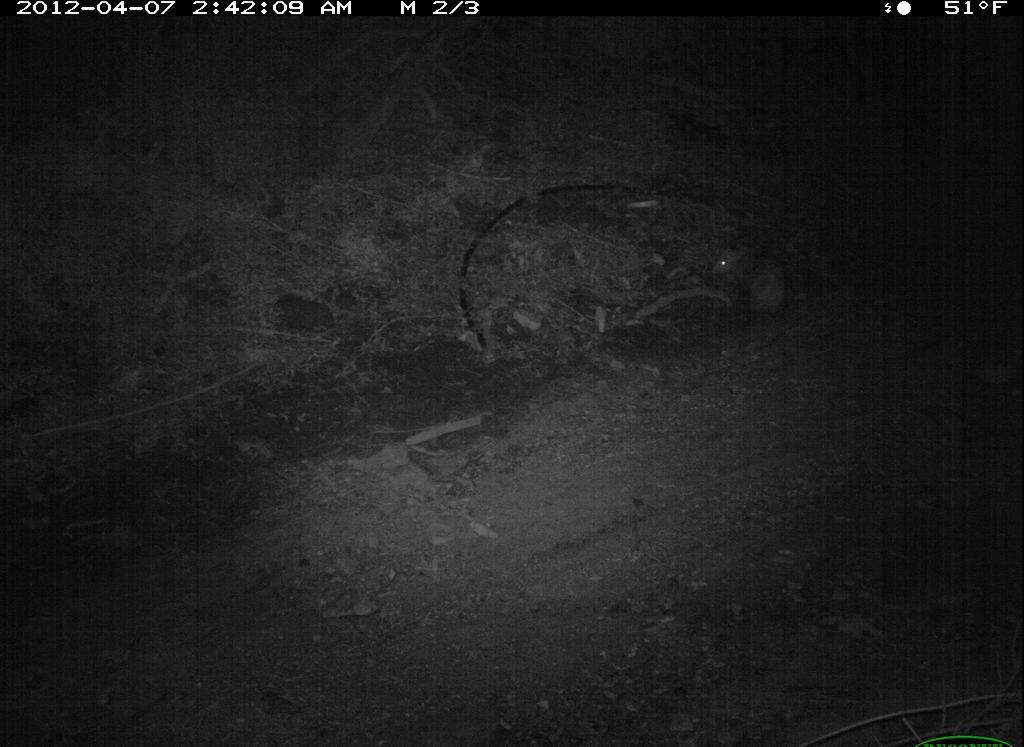opossum: (706, 235, 797, 328)
